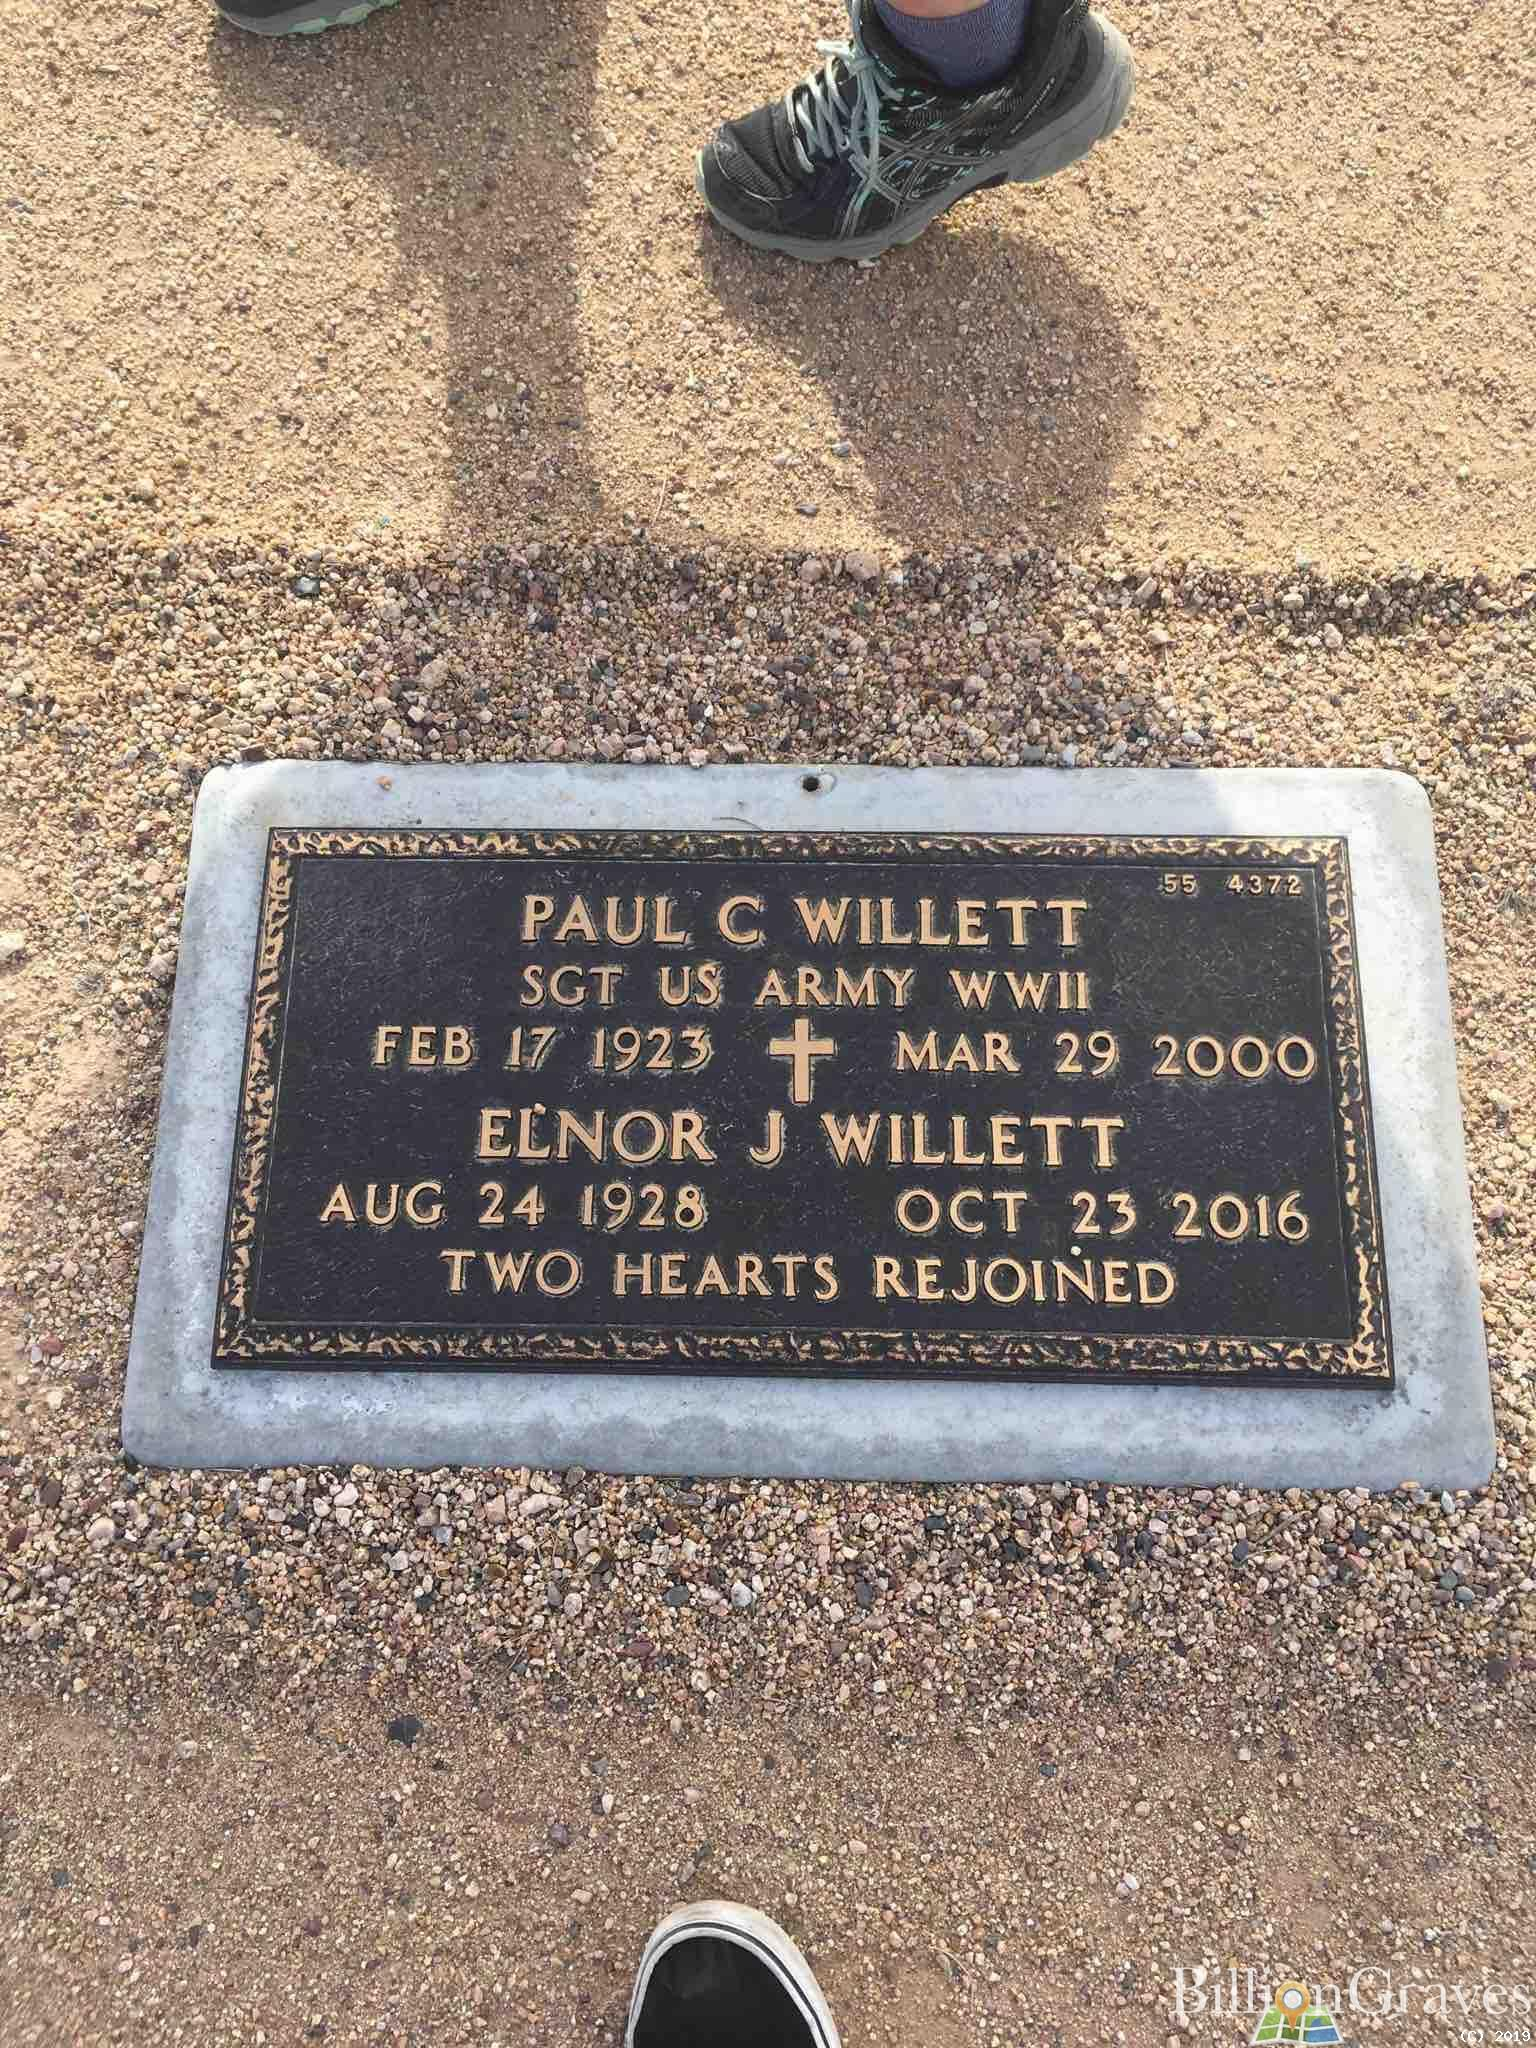flat: (124, 779, 1505, 1480)
